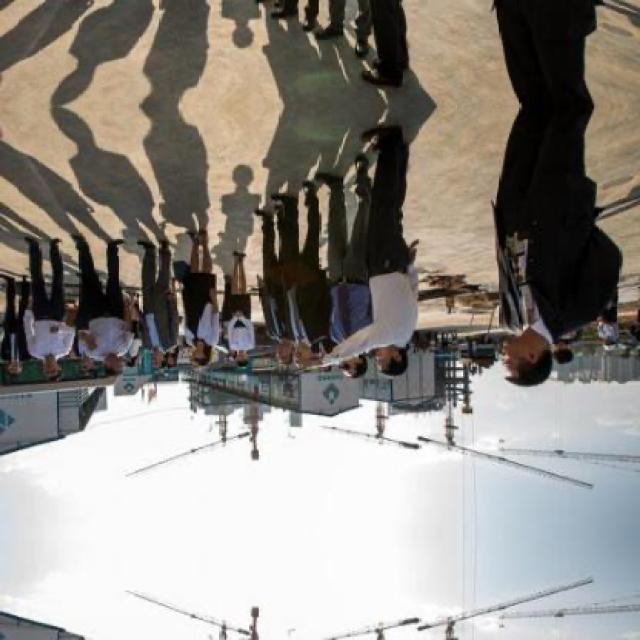sin casco: (501, 354, 556, 400), (278, 330, 314, 393), (14, 354, 79, 379), (368, 360, 414, 390)
